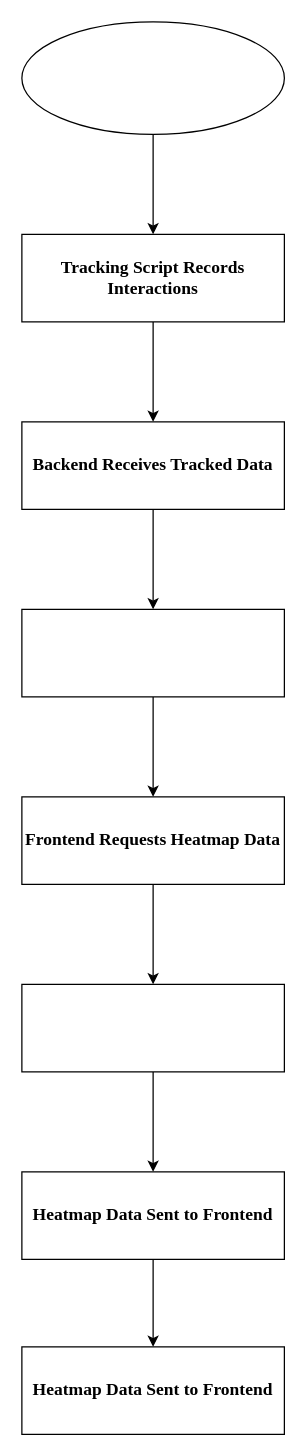
This 306x1456 diagram has some shape labels left out. Each missing label, with the box of its shape:
Backend Retrieves Data From Firestore: (21, 983, 284, 1072)
Data Stored in Firestore: (21, 608, 284, 697)
User Embeds Tracking Script: (21, 21, 284, 134)
